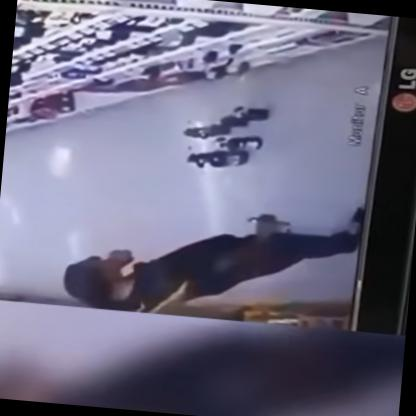Human Body: (56, 172, 369, 332)
